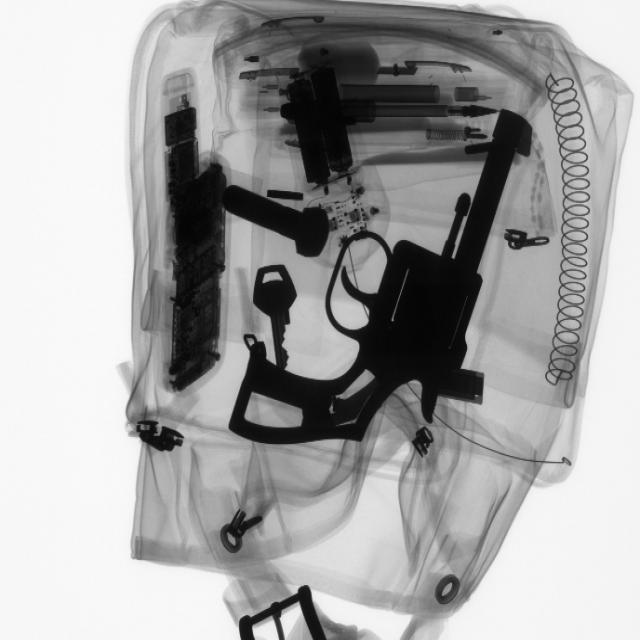GUN: (215, 106, 518, 462)
